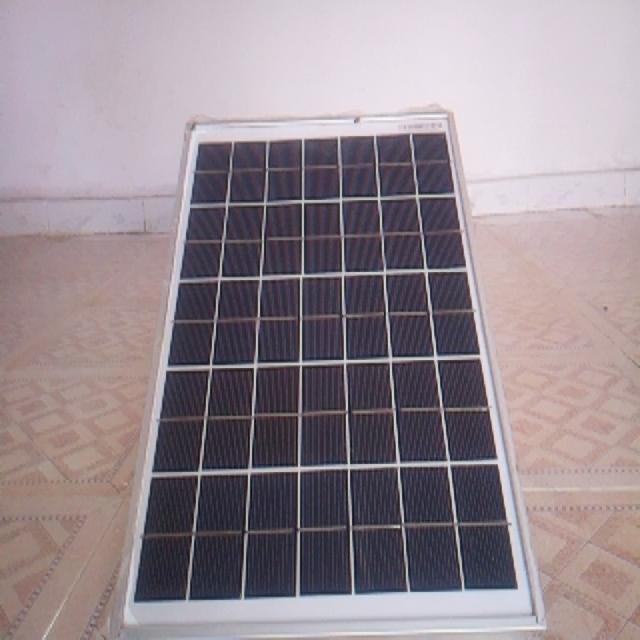Normal Solar Panel: (113, 109, 545, 639)
